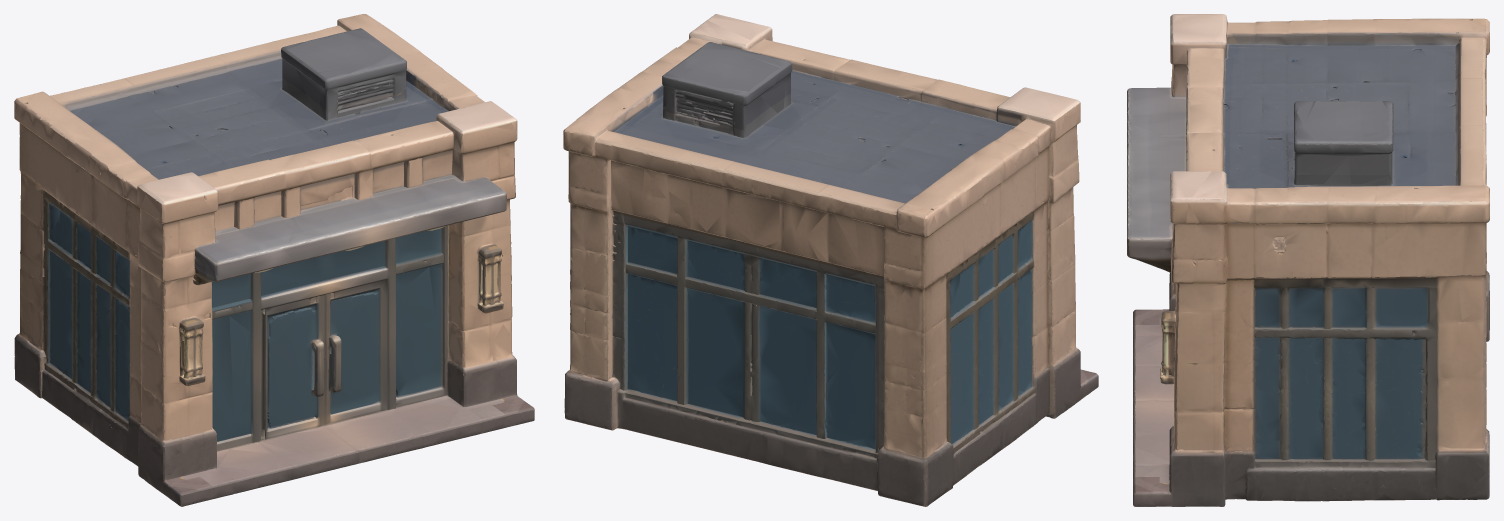
Rendered from DistrictCbdAI.fbx.
The picture shows the model from 3 angles, left to right: view 1: azimuth 30°, elevation 25°; view 2: azimuth 150°, elevation 25°; view 3: azimuth 270°, elevation 25°; orthographic projection. The views are drawn at different scales.
Parts seen in each view (by area): view 1: geometry_0; view 2: geometry_0; view 3: geometry_0.
Boxes of the visible parts, x1,y1,x2,y2 form: geometry_0: (14,14,534,506); geometry_0: (563,14,1098,506); geometry_0: (1127,14,1489,506).
Bounding box in the file's own units: 1 × 0.8578 × 0.8336.
